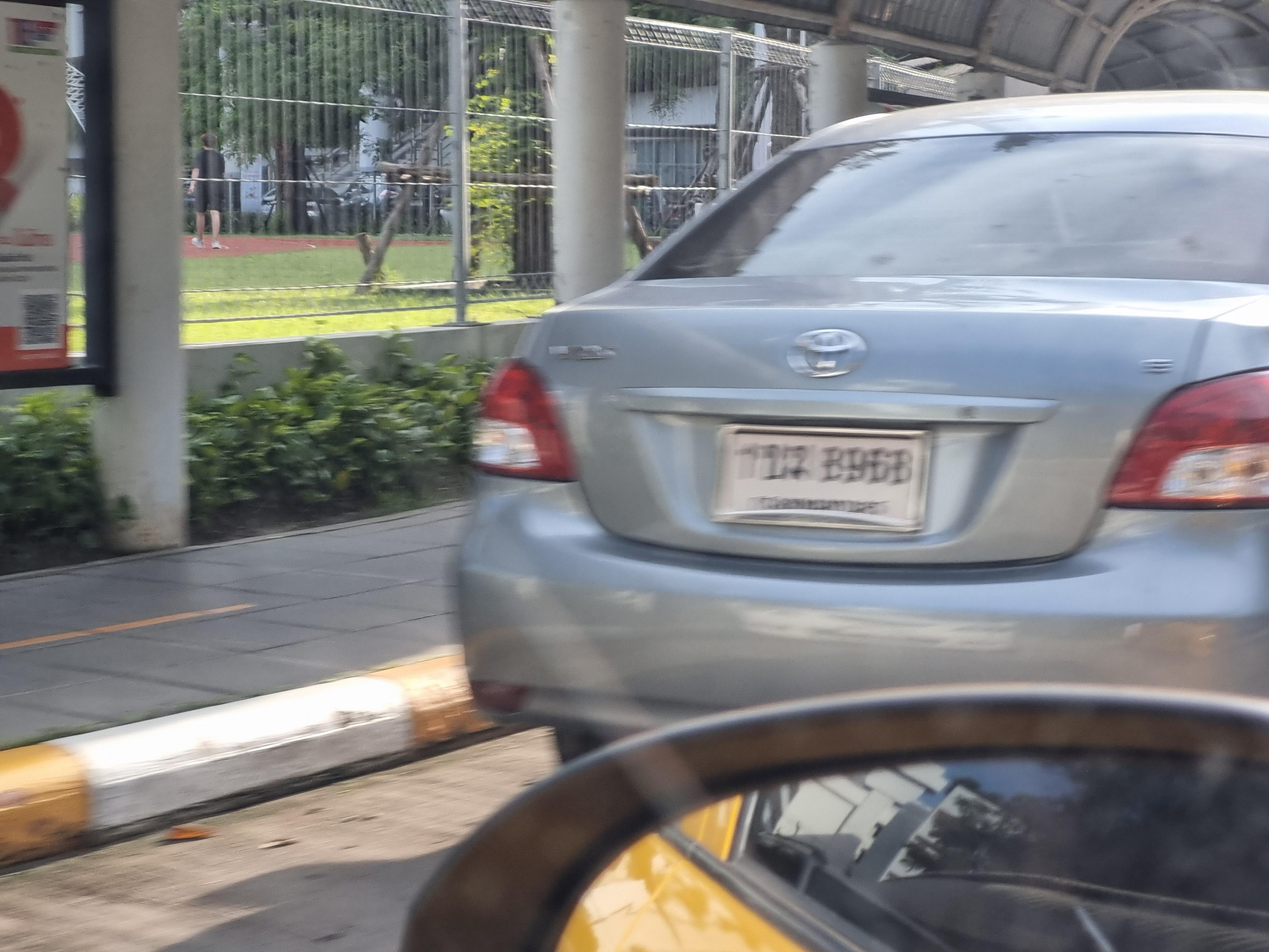license-plate: (710, 416, 939, 542)
